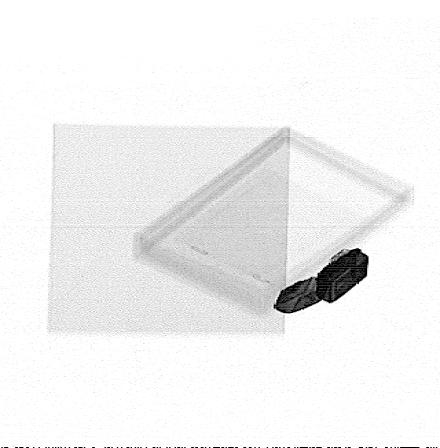Lighter: (273, 248, 370, 314)
